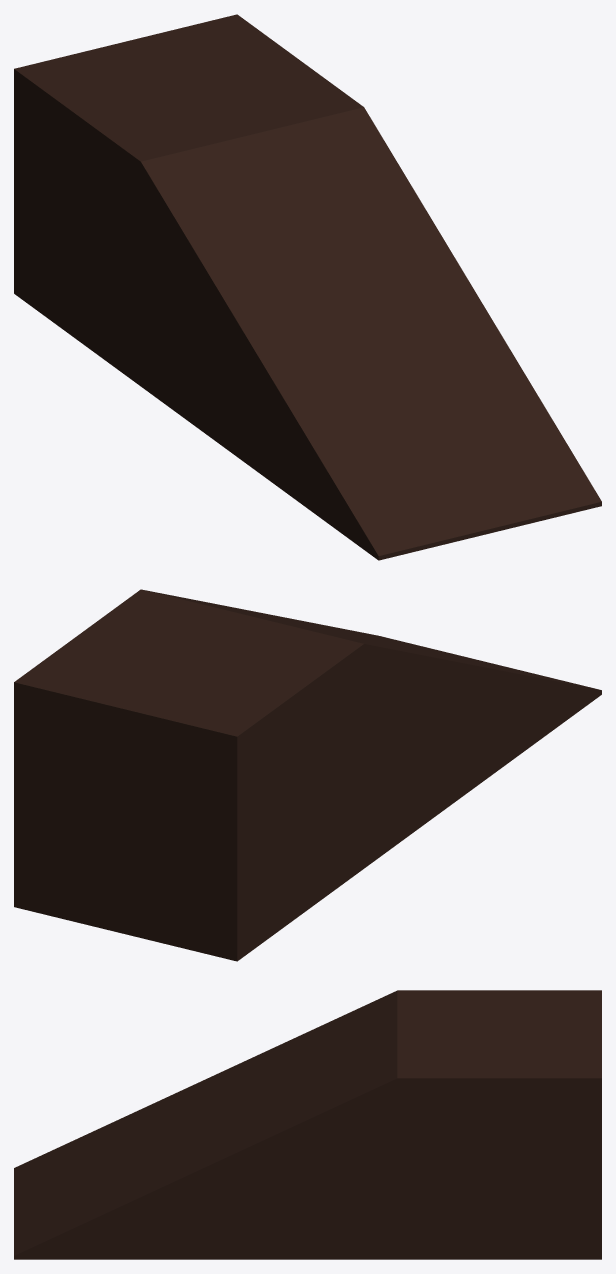
The model's file is kickstand.fbx.
3 views of the same model, one above another, from view 1: azimuth 30°, elevation 25°; view 2: azimuth 150°, elevation 25°; view 3: azimuth 270°, elevation 25° (orthographic). The views are drawn at different scales.
Visible parts, largest first — view 1: Kickstand; view 2: Kickstand; view 3: Kickstand.
Boxes of the visible parts, x1,y1,x2,y2 form: Kickstand: (14, 14, 601, 560); Kickstand: (14, 589, 601, 961); Kickstand: (14, 990, 601, 1259).
Bounding box in the file's own units: 200 × 192 × 566.
